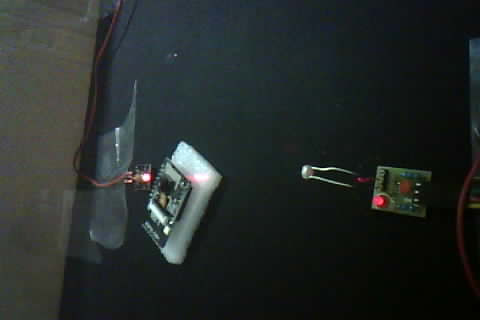esp32: (140, 138, 223, 265)
